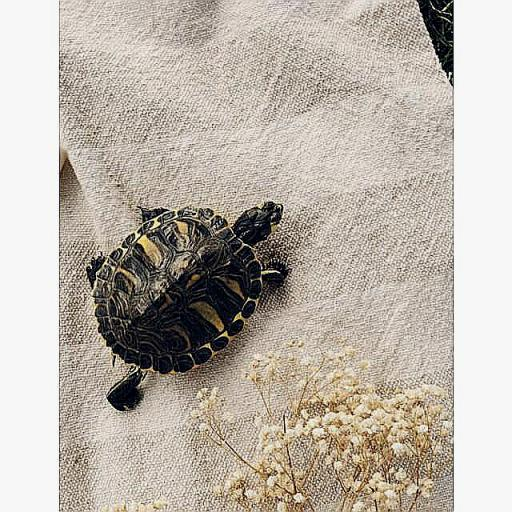turtle: (78, 192, 295, 418)
